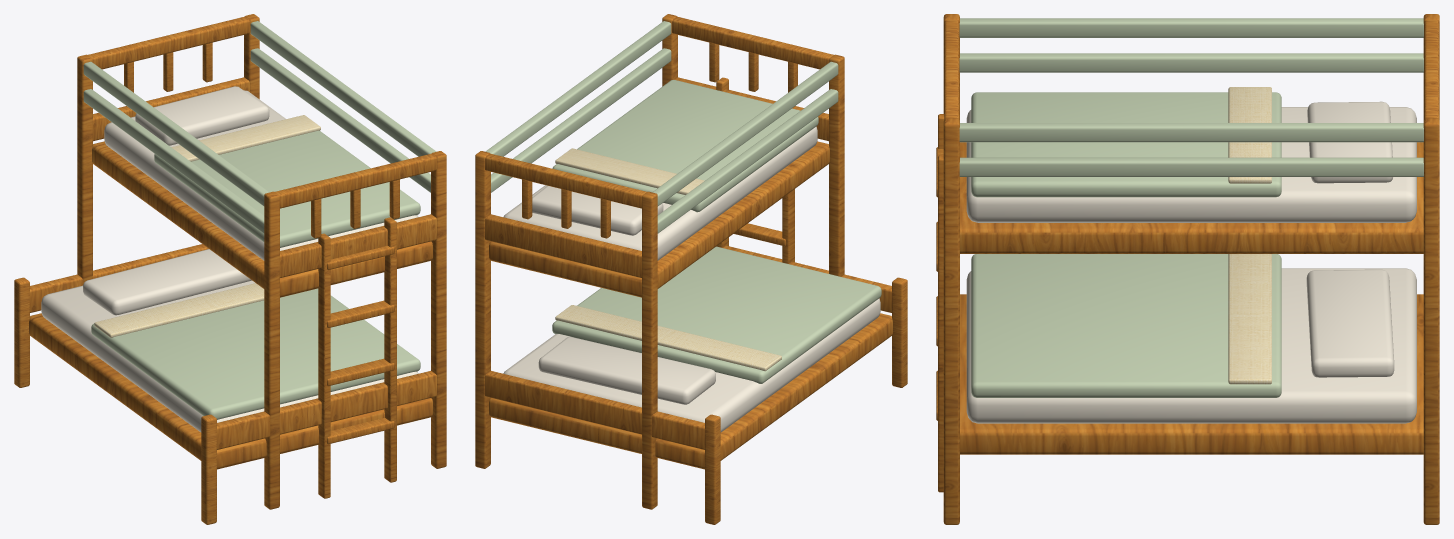
The model's file is twin-full-bunk.glb.
3 renders of one model, left to right at view 1: azimuth 30°, elevation 25°; view 2: azimuth 150°, elevation 25°; view 3: azimuth 270°, elevation 25°, orthographic. The views are drawn at different scales.
Visible parts, largest first — view 1: twin-full-bunk; view 2: twin-full-bunk; view 3: twin-full-bunk.
Boxes of the visible parts, <box> form: twin-full-bunk: <box>14,14,446,524</box>; twin-full-bunk: <box>475,14,907,524</box>; twin-full-bunk: <box>936,14,1439,524</box>.
Size of the model in its own units: 1.53 by 1.9 by 2.16.
5 materials, 2 textured.
